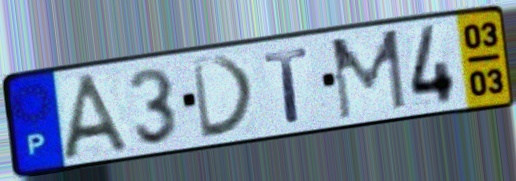3: (127, 65, 181, 147)
4: (408, 21, 459, 108)
A: (58, 70, 137, 162)
D: (188, 53, 259, 142)
M: (327, 25, 410, 124)
T: (261, 44, 312, 126)
